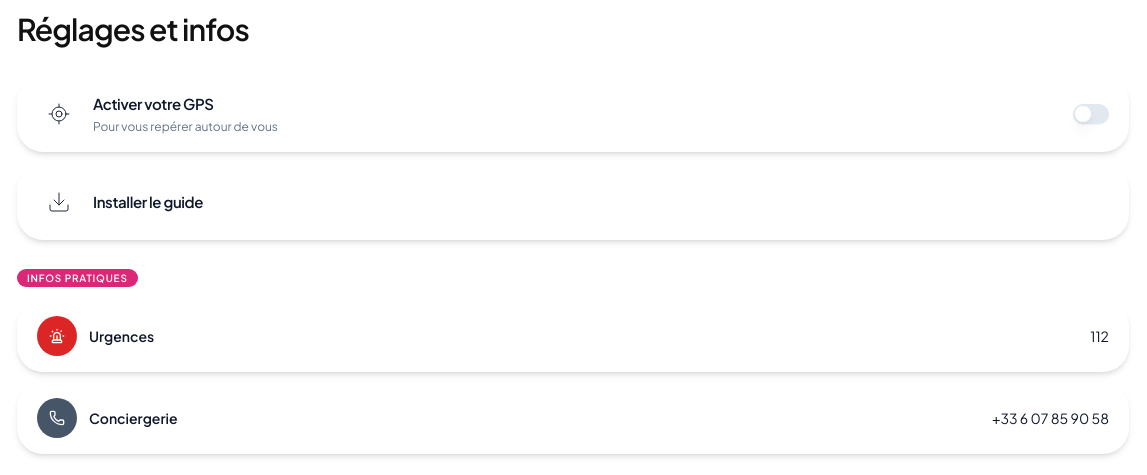
it: AC-01-07: explains unavailable geolocation
The image size is (1147, 475).
Click the switch named "Activer votre GPS".
click(1091, 114)  # box left=1073, top=104, right=1109, bottom=124
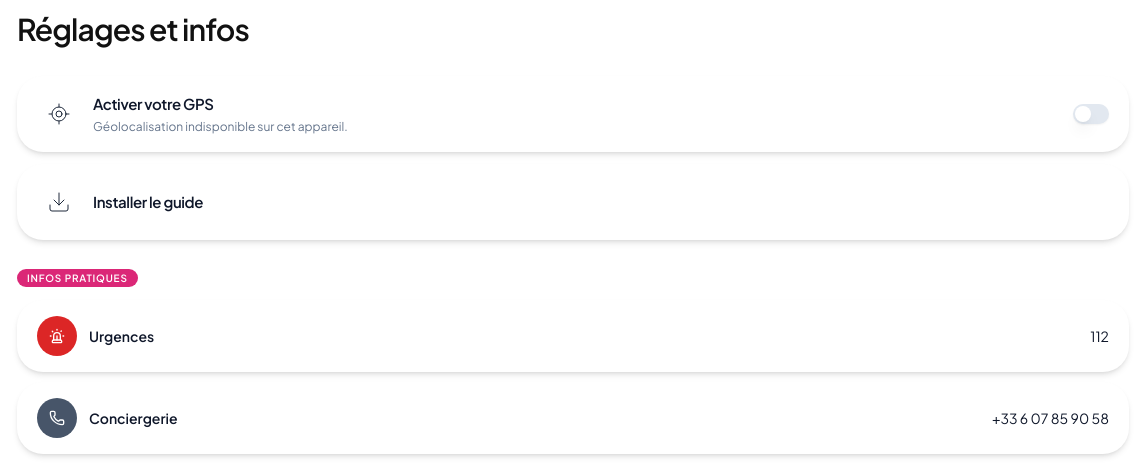
Now the text "Géolocalisation indisponible sur cet appareil." is shown, box left=93, top=119, right=348, bottom=134
